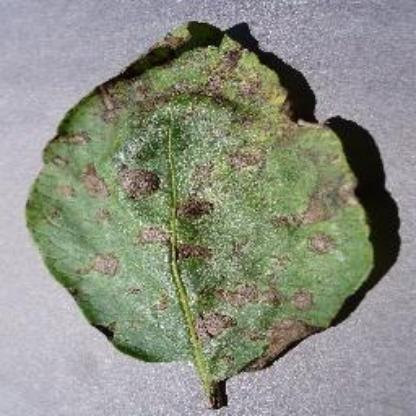Early-Blight: (24, 18, 380, 410)
